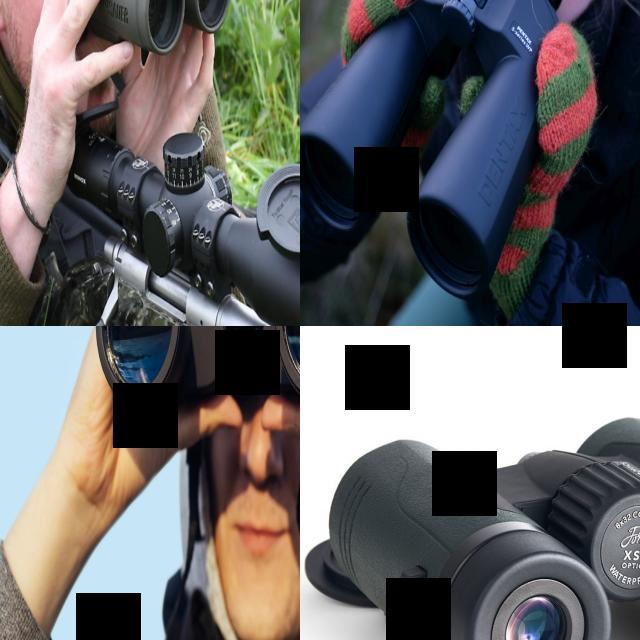Binocular: (89, 0, 243, 58)
